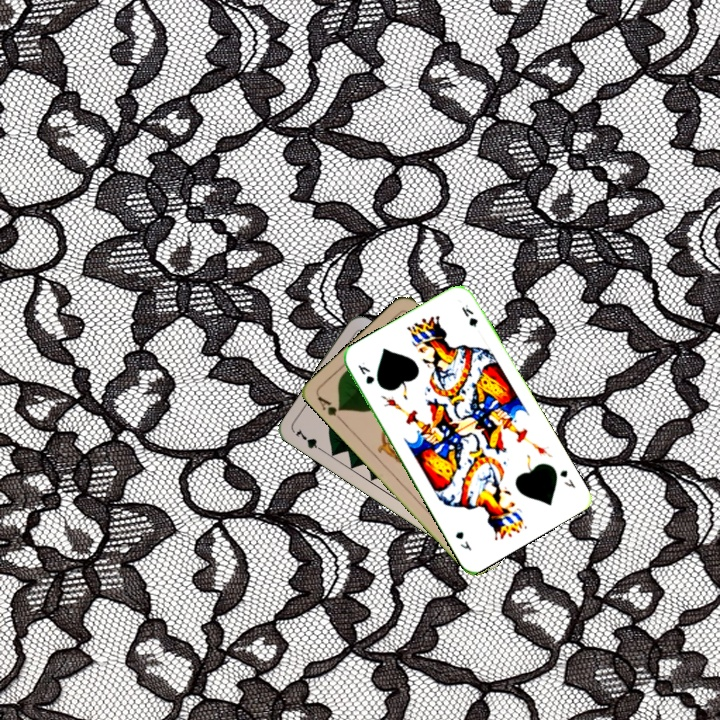G7: (291, 425, 328, 455)
GA: (313, 392, 346, 425)
GK: (354, 361, 377, 387), (555, 466, 578, 491)
